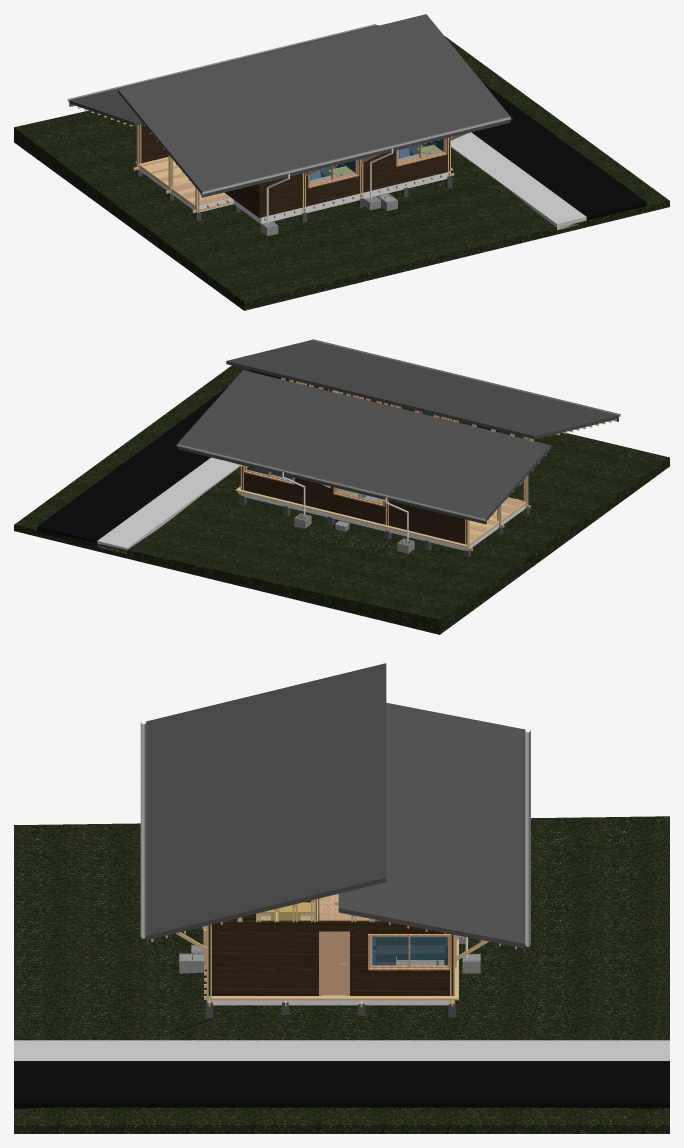
Rendered from modelo.glb.
3 renders of one model, top to bottom at view 1: azimuth 30°, elevation 25°; view 2: azimuth 150°, elevation 25°; view 3: azimuth 270°, elevation 25°, orthographic. The views are drawn at different scales.
Visible parts, largest first — view 1: Toposolid Toposolid <748525 Terreno<, FootPrintRoof Roofs <577467 Cubierta - por defecto - 15cm<, Floor Floors <835402 Calle - 30 cm<, Floor Floors <835542 Por defecto - 30 cm<, Wall Walls <236990 Por defecto - 10 cm<, Floor Floors <173713 Con parquet - 32 cm<, FootPrintRoof Roofs <577460 Cubierta - por defecto - 15cm<, Wall Walls <769837 Por defecto - 10 cm<, Fascia Fascias <825342 Imposta<, Gutter Gutters <825356 Canaleta circular<, FamilyInstance Windows Ventana Pivotante 1 <709932 Ventana P, FamilyInstance Windows Ventana Pivotante 1 <649213 Ventana P (+3 smaller); view 2: Toposolid Toposolid <748525 Terreno<, FootPrintRoof Roofs <577460 Cubierta - por defecto - 15cm<, FootPrintRoof Roofs <577467 Cubierta - por defecto - 15cm<, Floor Floors <835402 Calle - 30 cm<, Wall Walls <232124 Por defecto - 10 cm<, Floor Floors <835542 Por defecto - 30 cm<, Floor Floors <173713 Con parquet - 32 cm<, Fascia Fascias <825352 Imposta<, Gutter Gutters <825354 Canaleta circular<, FamilyInstance Structural Framing Timber <732743 11x5cm<, Gutter Gutters <825356 Canaleta circular<; view 3: Toposolid Toposolid <748525 Terreno<, FootPrintRoof Roofs <577467 Cubierta - por defecto - 15cm<, FootPrintRoof Roofs <577460 Cubierta - por defecto - 15cm<, Floor Floors <835402 Calle - 30 cm<, Floor Floors <835542 Por defecto - 30 cm<, Wall Walls <167491 Por defecto - 10 cm<, FamilyInstance Windows Ventana Pivotante 1 <654766 Ventana P, Floor Floors <173713 Con parquet - 32 cm<, FamilyInstance Doors Puerta de 1 hoja <406597 80 x 210 cm<, FamilyInstance Furniture Sofa-Corbu <700305 Sofa<, Gutter Gutters <825356 Canaleta circular<, Gutter Gutters <825354 Canaleta circular< (+1 smaller).
Part boxes in pixels (<box>): Toposolid Toposolid <748525 Terreno<: <box>14,36,669,310</box>; FootPrintRoof Roofs <577467 Cubierta - por defecto - 15cm<: <box>118,14,509,193</box>; Floor Floors <835402 Calle - 30 cm<: <box>471,82,646,220</box>; Floor Floors <835542 Por defecto - 30 cm<: <box>451,132,586,230</box>; Wall Walls <236990 Por defecto - 10 cm<: <box>304,137,449,206</box>; Floor Floors <173713 Con parquet - 32 cm<: <box>139,151,449,224</box>; FootPrintRoof Roofs <577460 Cubierta - por defecto - 15cm<: <box>70,25,378,125</box>; Wall Walls <769837 Por defecto - 10 cm<: <box>258,173,302,217</box>; Fascia Fascias <825342 Imposta<: <box>201,116,510,197</box>; Gutter Gutters <825356 Canaleta circular<: <box>202,116,512,194</box>; FamilyInstance Windows Ventana Pivotante 1 <709932 Ventana P: <box>396,138,447,166</box>; FamilyInstance Windows Ventana Pivotante 1 <649213 Ventana P: <box>307,159,359,187</box>; Toposolid Toposolid <748525 Terreno<: <box>14,365,669,634</box>; FootPrintRoof Roofs <577460 Cubierta - por defecto - 15cm<: <box>178,370,551,520</box>; FootPrintRoof Roofs <577467 Cubierta - por defecto - 15cm<: <box>226,340,618,439</box>; Floor Floors <835402 Calle - 30 cm<: <box>37,370,308,546</box>; Wall Walls <232124 Por defecto - 10 cm<: <box>242,466,466,544</box>; Floor Floors <835542 Por defecto - 30 cm<: <box>97,390,343,553</box>; Floor Floors <173713 Con parquet - 32 cm<: <box>242,475,525,550</box>; Fascia Fascias <825352 Imposta<: <box>177,442,486,524</box>; Gutter Gutters <825354 Canaleta circular<: <box>176,443,486,521</box>; FamilyInstance Structural Framing Timber <732743 11x5cm<: <box>235,489,467,546</box>; Gutter Gutters <825356 Canaleta circular<: <box>312,339,620,416</box>; Toposolid Toposolid <748525 Terreno<: <box>14,816,669,1133</box>; FootPrintRoof Roofs <577467 Cubierta - por defecto - 15cm<: <box>148,663,386,939</box>; FootPrintRoof Roofs <577460 Cubierta - por defecto - 15cm<: <box>338,702,523,947</box>; Floor Floors <835402 Calle - 30 cm<: <box>14,1061,669,1108</box>; Floor Floors <835542 Por defecto - 30 cm<: <box>14,1040,669,1060</box>; Wall Walls <167491 Por defecto - 10 cm<: <box>212,920,449,995</box>; FamilyInstance Windows Ventana Pivotante 1 <654766 Ventana P: <box>368,934,450,970</box>; Floor Floors <173713 Con parquet - 32 cm<: <box>208,894,452,1005</box>; FamilyInstance Doors Puerta de 1 hoja <406597 80 x 210 cm<: <box>319,931,349,995</box>; FamilyInstance Furniture Sofa-Corbu <700305 Sofa<: <box>371,936,447,961</box>; Gutter Gutters <825356 Canaleta circular<: <box>140,722,146,938</box>; Gutter Gutters <825354 Canaleta circular<: <box>525,729,530,946</box>.
Size of the model in its own units: 21.5 by 6.02 by 20.14.
48 materials, 8 textured.
